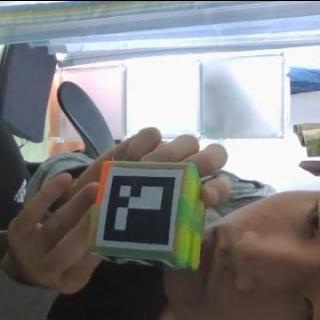armor: (98, 164, 184, 251)
robot: (92, 160, 208, 270)
